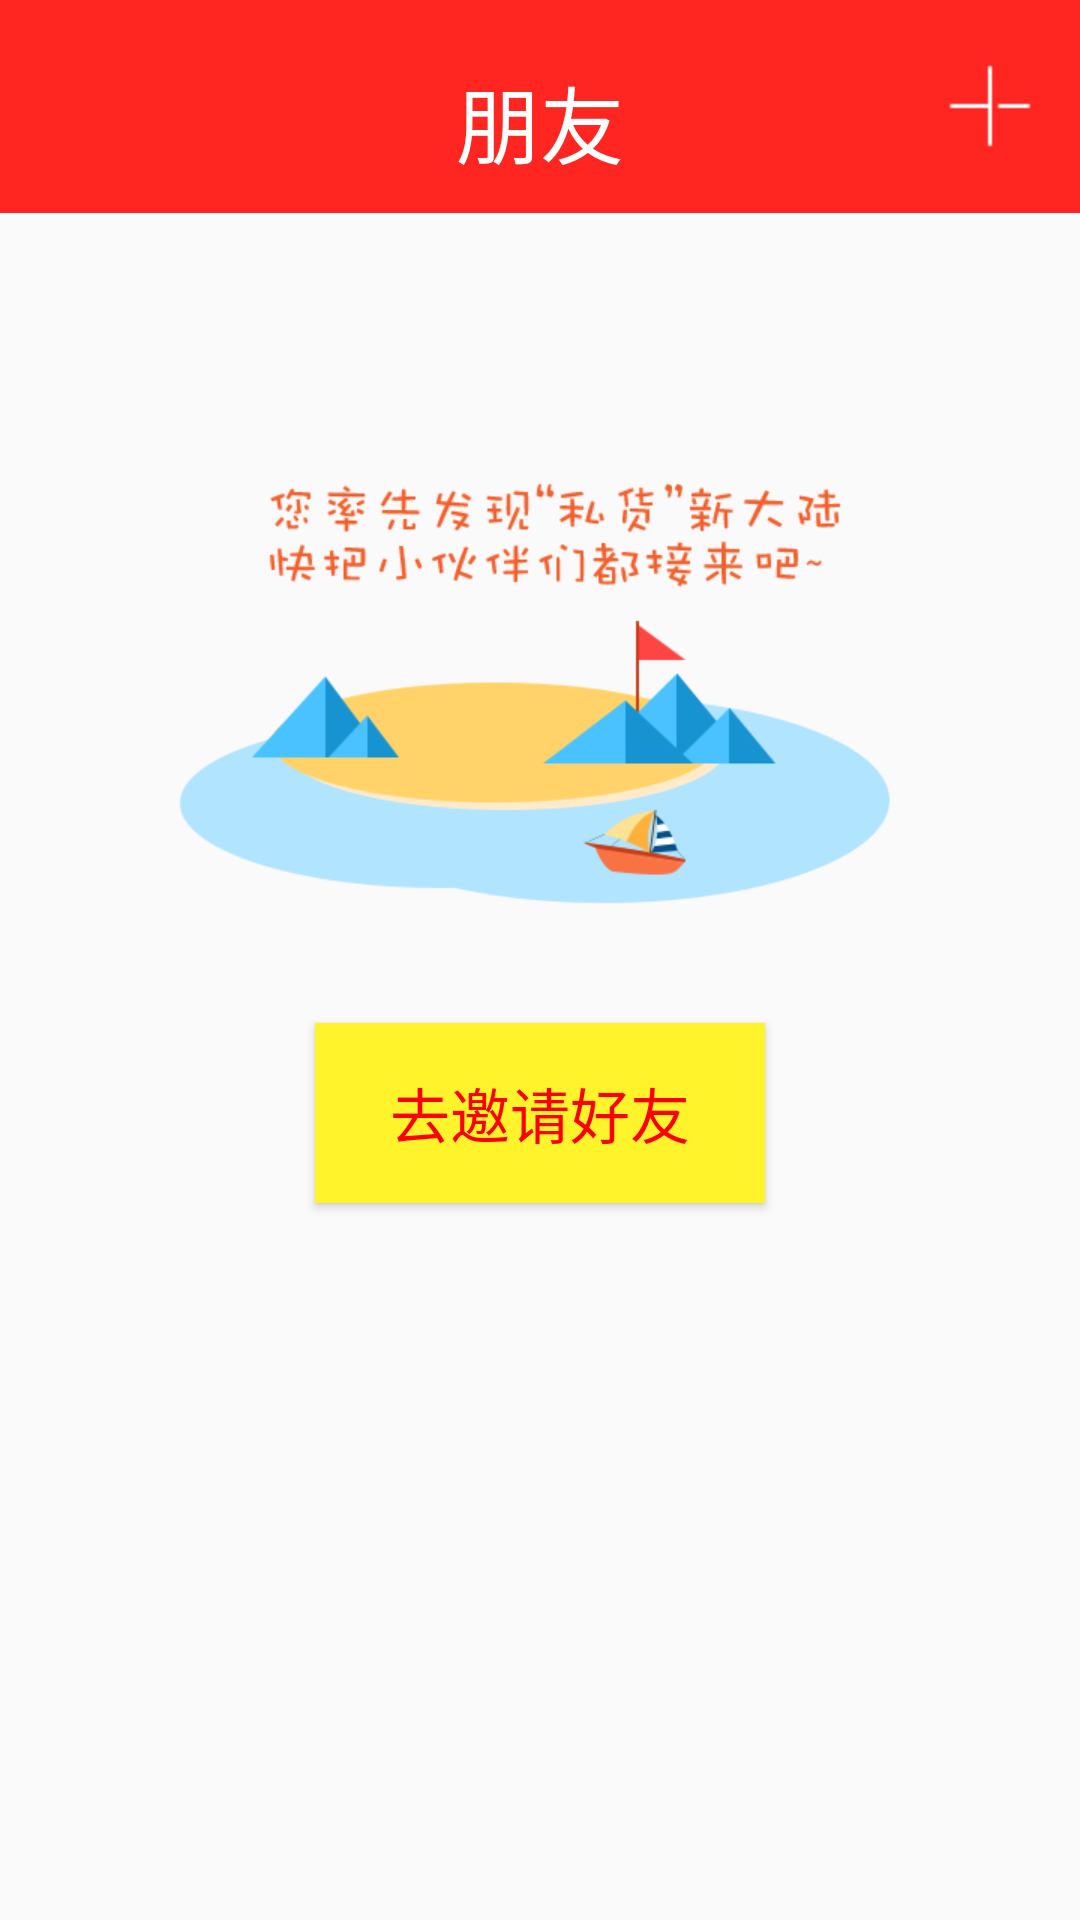

Point at icon controls on the screen. Image size 1080px x 1920px, points as (x,y).
add off: (990,106)
